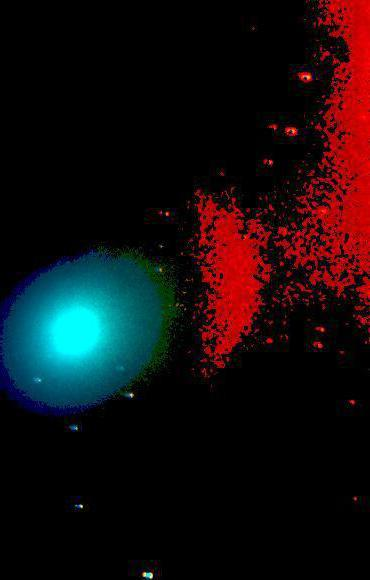star: (132, 363, 162, 393)
